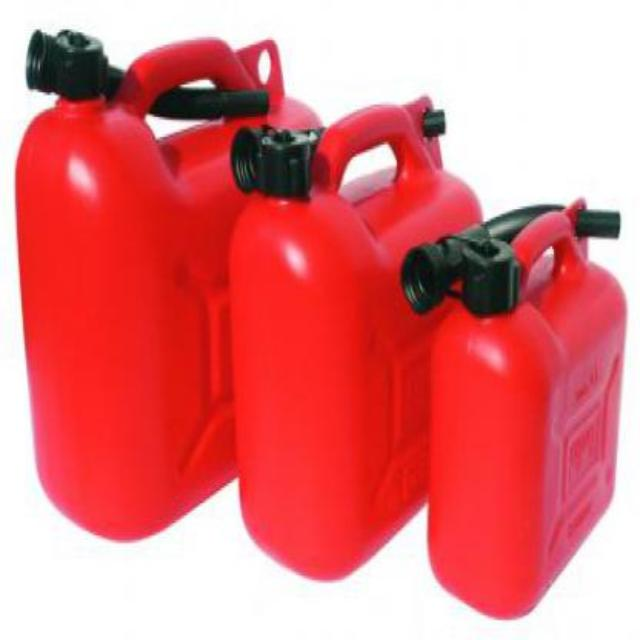chemical_plastic_gallon: (401, 197, 624, 623)
